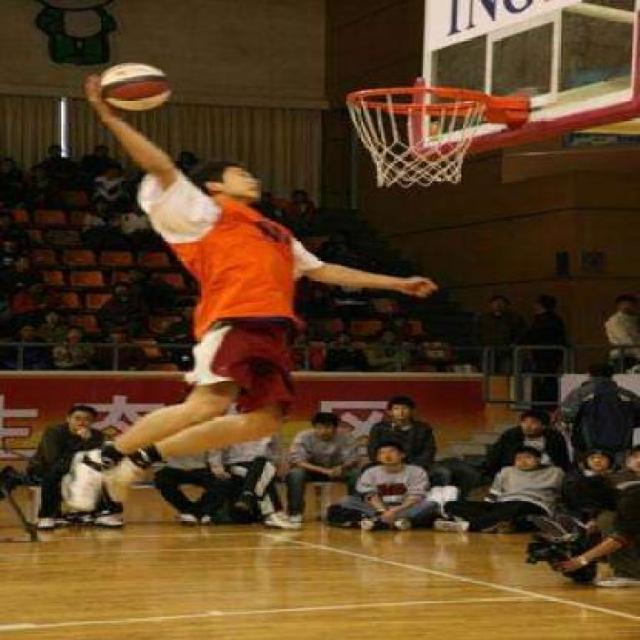basketball: (101, 62, 172, 111)
rim: (347, 87, 489, 189)
